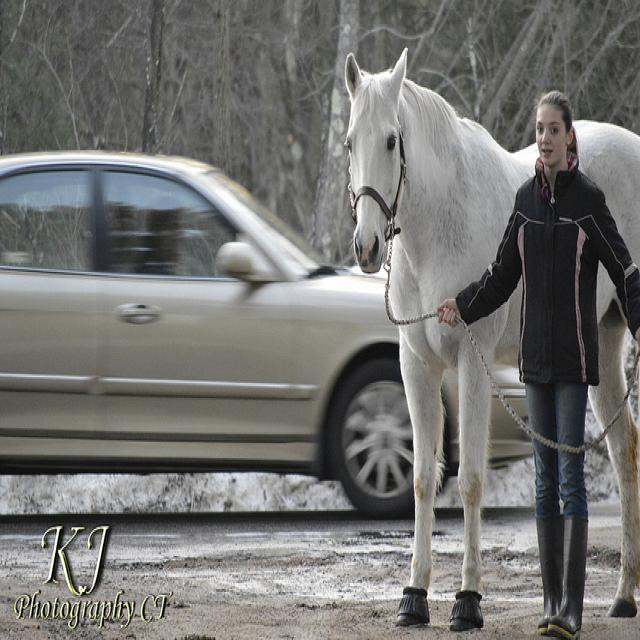Vehicle: (1, 149, 532, 506)
